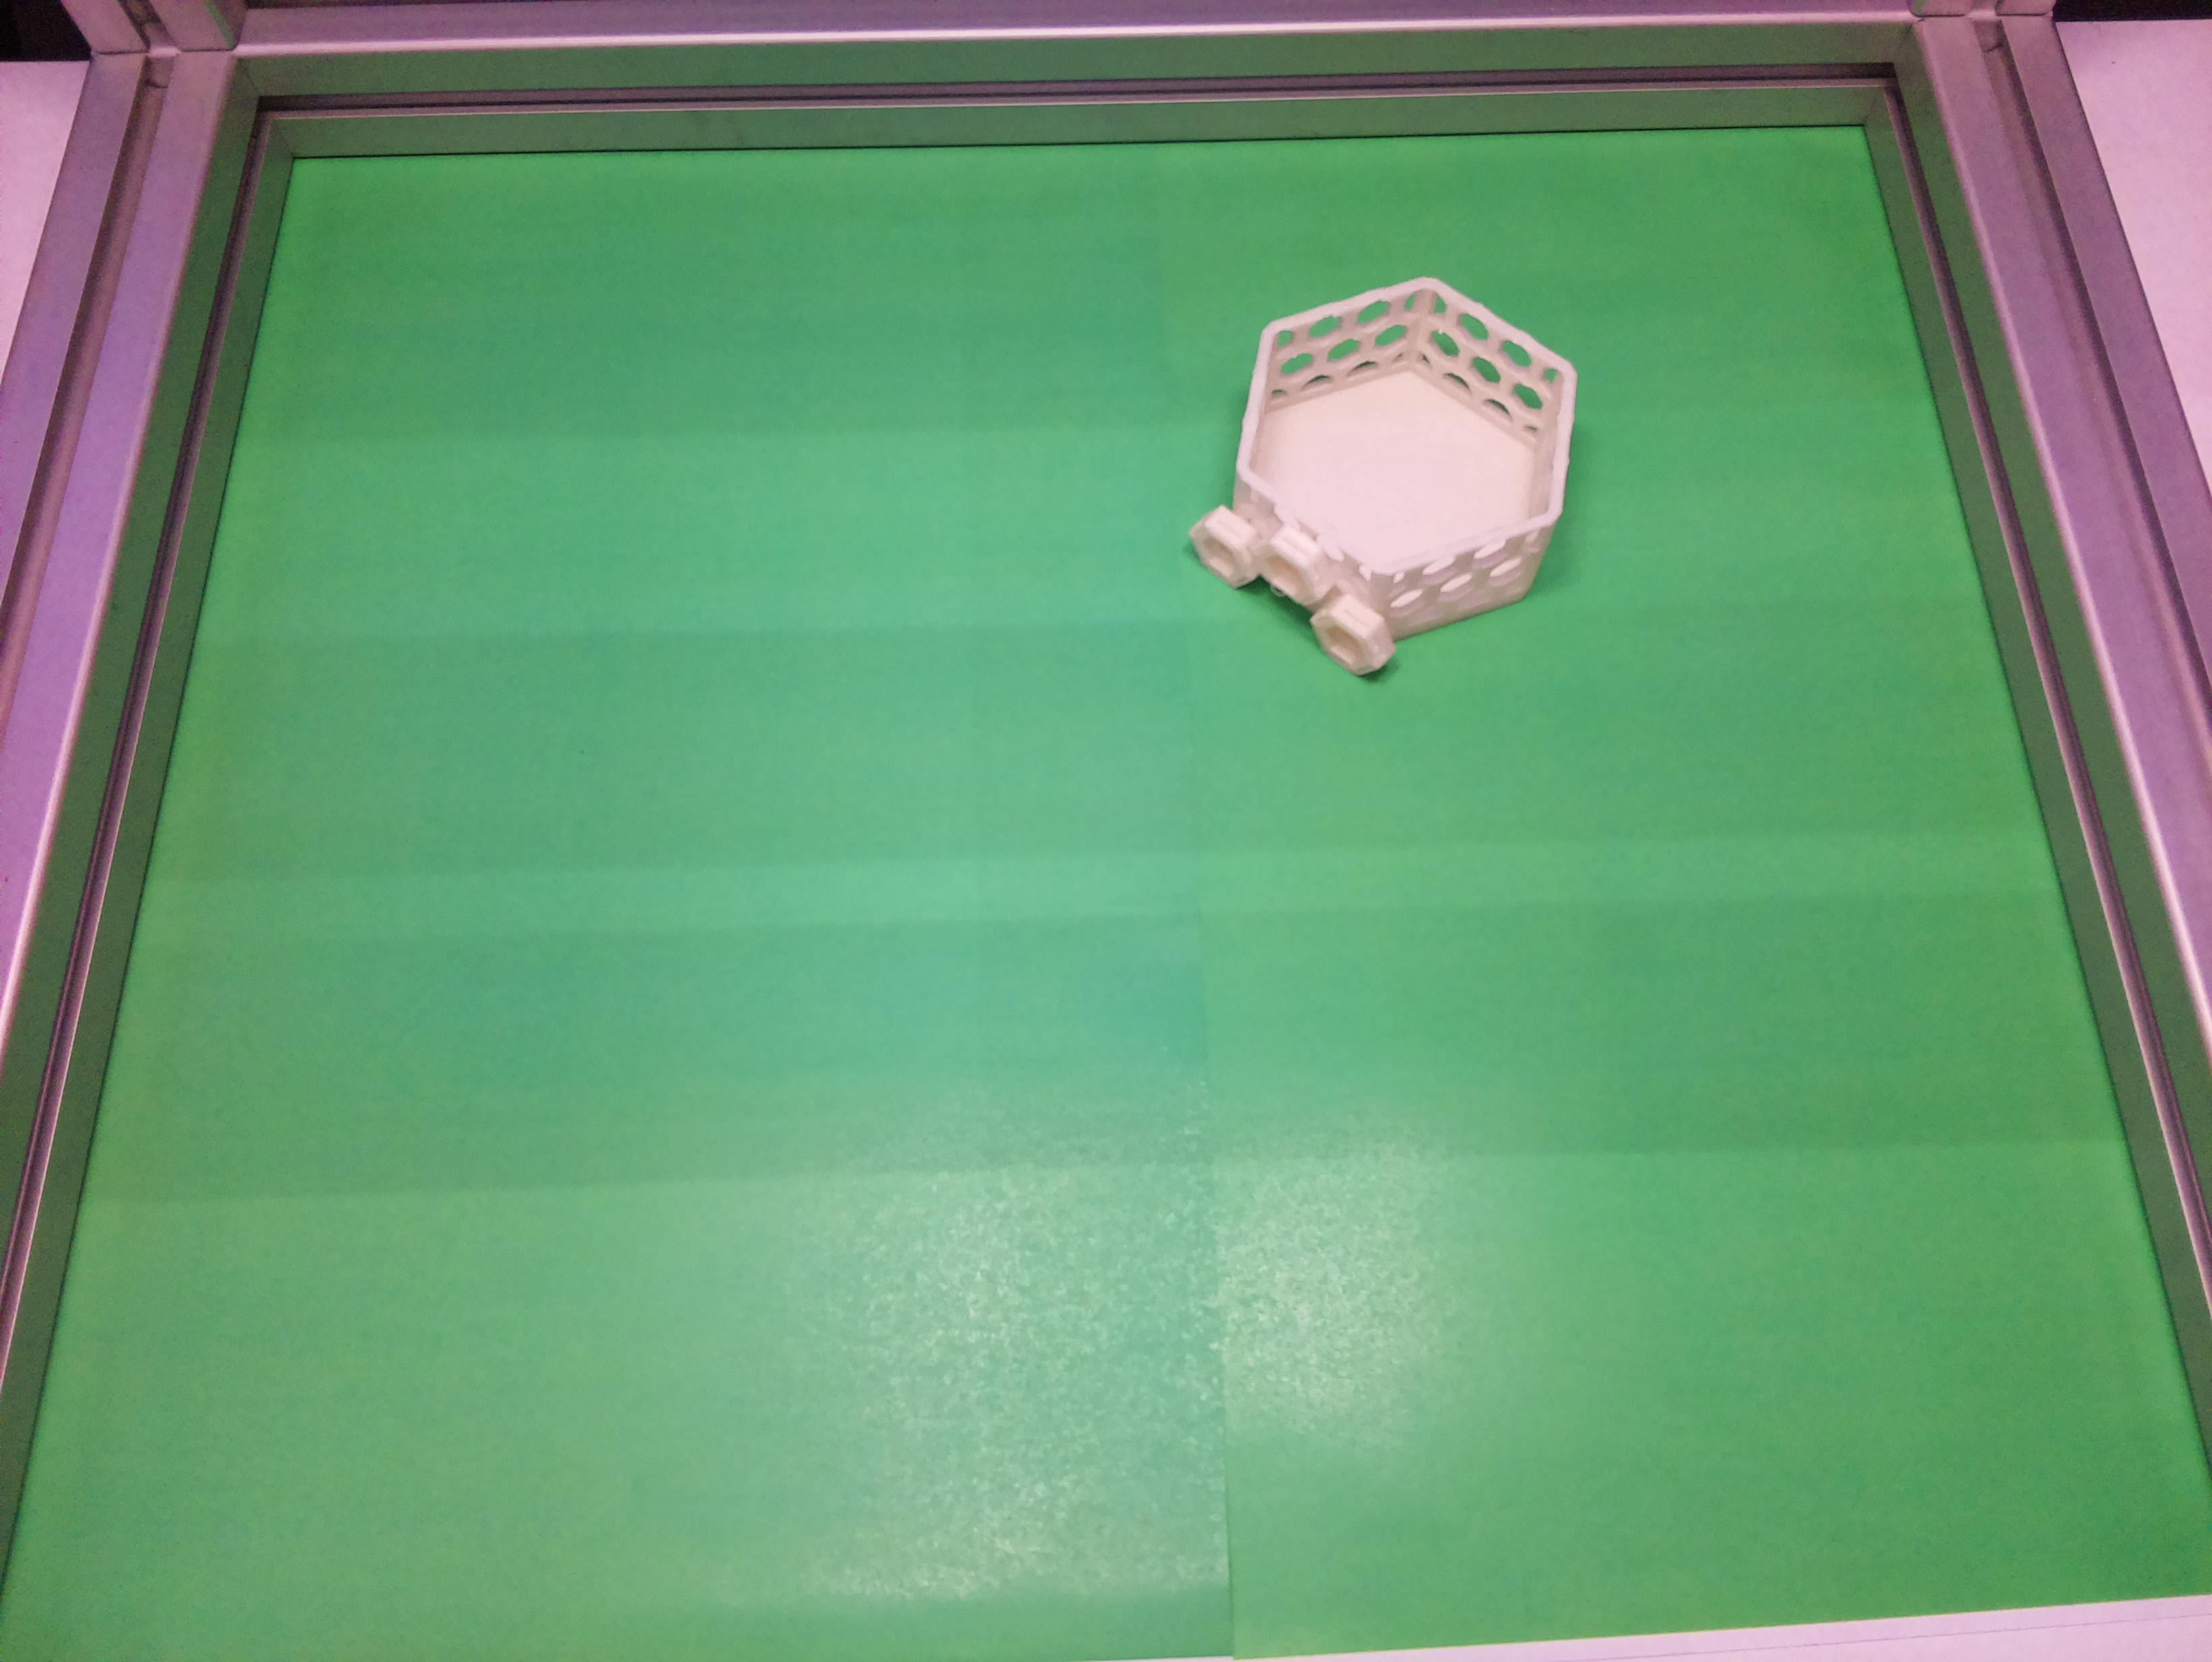bottle_holder: (1158, 227, 1623, 722)
